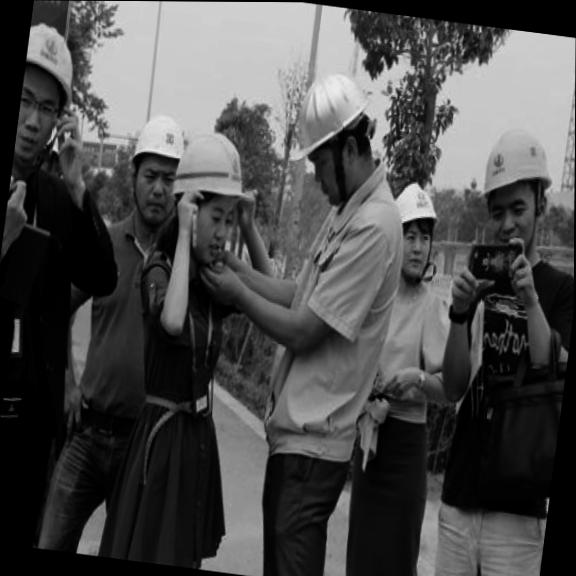no_safety_vest: (255, 183, 398, 476), (439, 242, 570, 482), (0, 151, 96, 426), (75, 241, 169, 424), (361, 271, 455, 436), (140, 258, 234, 420)
